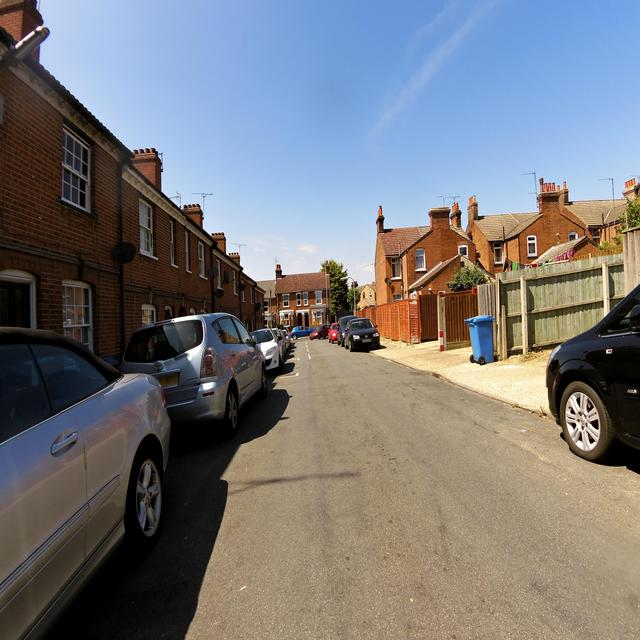Car: (0, 313, 379, 639), (545, 283, 639, 462)
Trash Can: (465, 315, 495, 365), (102, 355, 121, 372)
Vegetation: (597, 194, 639, 250), (448, 260, 490, 290)
